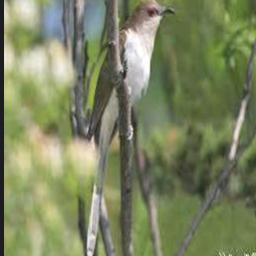Cuckoo: (85, 0, 176, 256)
